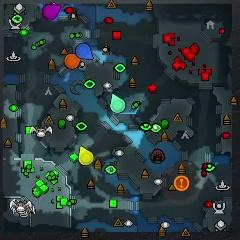Other: (174, 175, 190, 191)
p1: (76, 44, 93, 59)
p2: (110, 94, 125, 113)
p3: (42, 5, 61, 21)
p4: (79, 147, 94, 165)
p5: (64, 54, 82, 69)
